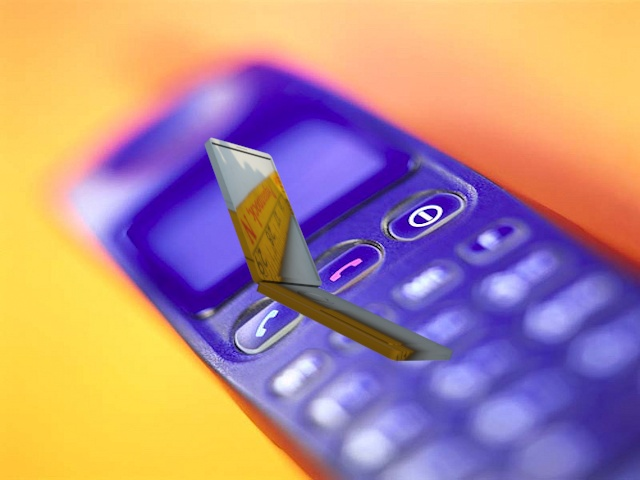mobile_phone: (193, 129, 464, 369)
